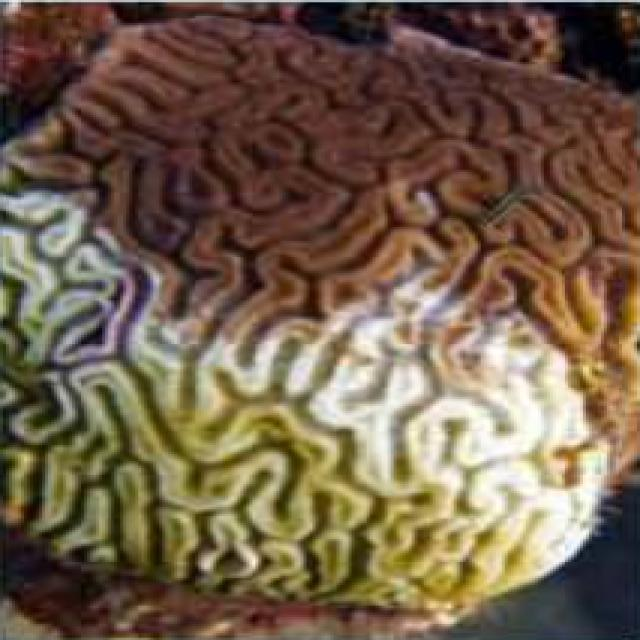Coral: (0, 13, 640, 607)
